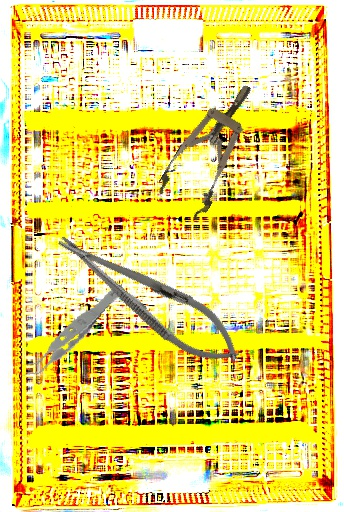Needle Holder: (46, 216, 252, 380)
Speculum: (151, 72, 274, 223)
Tissue Forceps: (5, 283, 137, 378)
